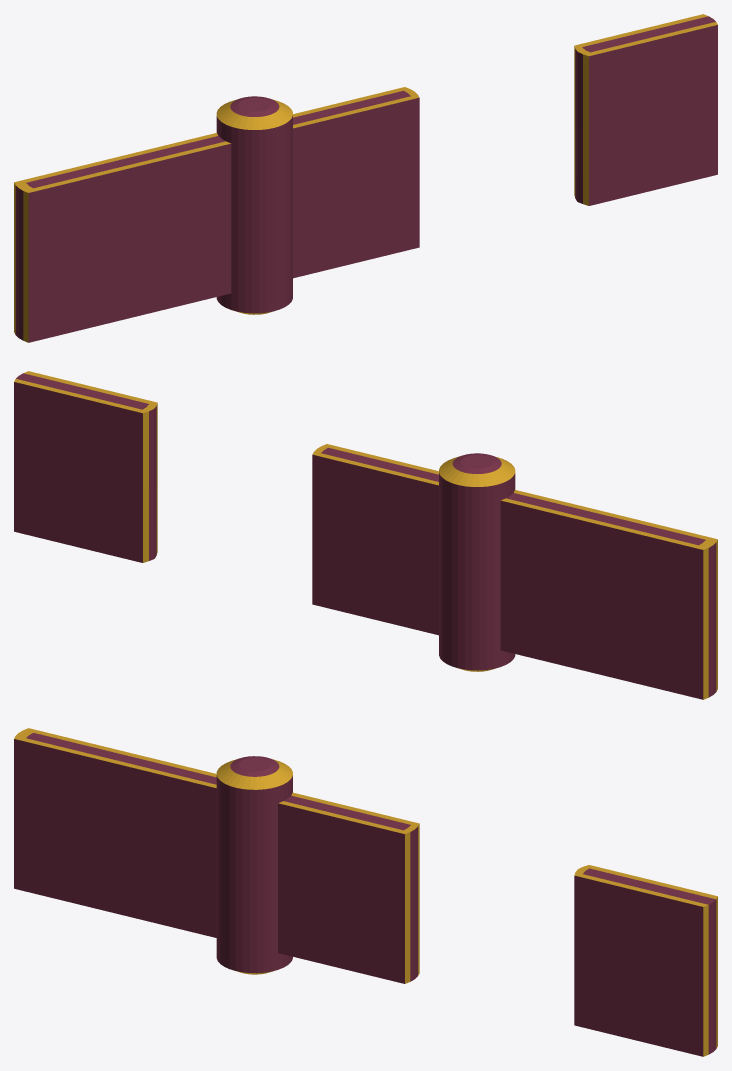
The model's file is Paddle With Gap.fbx.
3 views of the same model, one above another, from view 1: azimuth 30°, elevation 25°; view 2: azimuth 150°, elevation 25°; view 3: azimuth 330°, elevation 25° (orthographic).
Visible parts, largest first — view 1: Cylinder; view 2: Cylinder; view 3: Cylinder.
Boxes of the visible parts, x1,y1,x2,y2 form: Cylinder: (14, 14, 717, 342); Cylinder: (14, 371, 717, 699); Cylinder: (14, 728, 717, 1056).
Size of the model in its own units: 2092 by 581 by 200.
